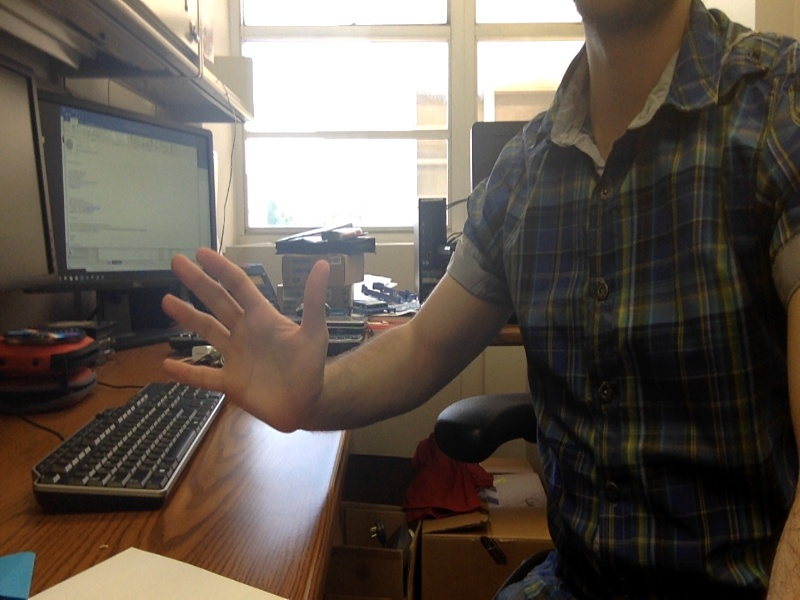5-hand: (165, 247, 339, 440)
